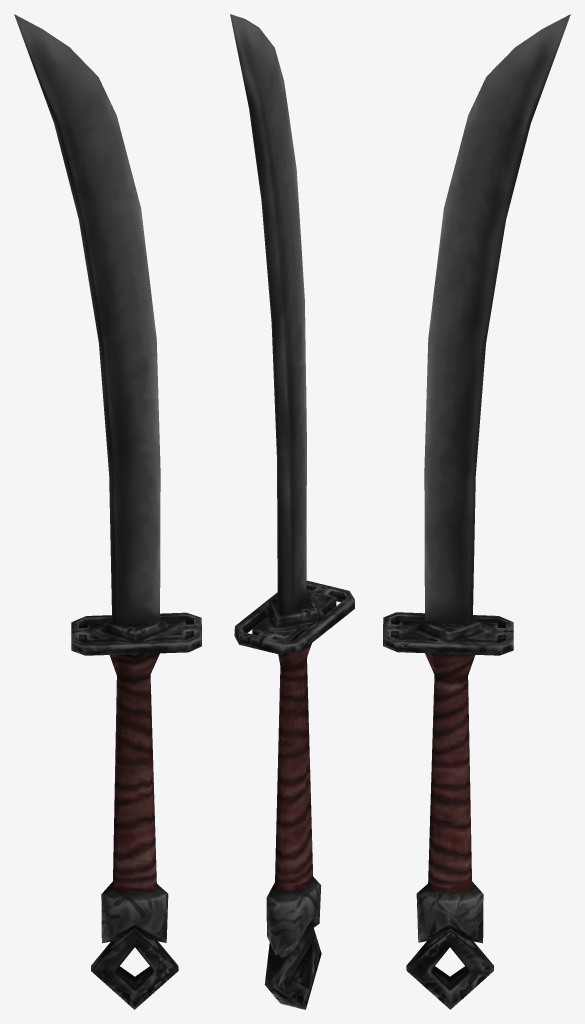
The model's file is ninja_sword.fbx.
The picture shows the model from 3 angles, left to right: view 1: azimuth 90°, elevation 25°; view 2: azimuth 150°, elevation 25°; view 3: azimuth 270°, elevation 25°; orthographic projection. The views are drawn at different scales.
Parts seen in each view (by area): view 1: ninjaSWORD; view 2: ninjaSWORD; view 3: ninjaSWORD.
Part boxes in pixels (<box>): ninjaSWORD: <box>14,14,201,1009</box>; ninjaSWORD: <box>230,14,354,1009</box>; ninjaSWORD: <box>383,14,570,1009</box>.
Bounding box in the file's own units: 0.0916 × 1.37 × 0.2357.
